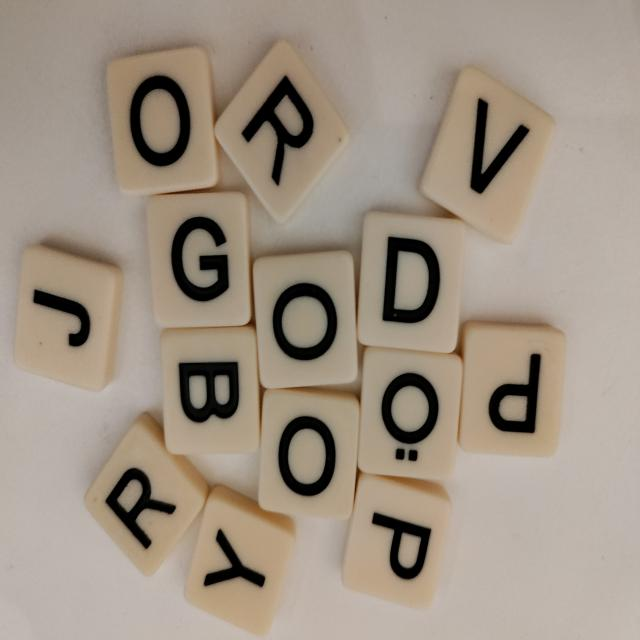b: (160, 327, 260, 454)
d: (355, 210, 466, 356)
g: (146, 191, 253, 328)
j: (10, 241, 126, 397)
o: (105, 44, 222, 198), (252, 251, 359, 390), (258, 389, 362, 522)
o_dot: (357, 344, 463, 483)
p: (337, 466, 454, 614), (456, 319, 567, 459)
r: (210, 33, 354, 230), (79, 409, 213, 582)
v: (415, 61, 559, 249)
y: (180, 481, 300, 639)
